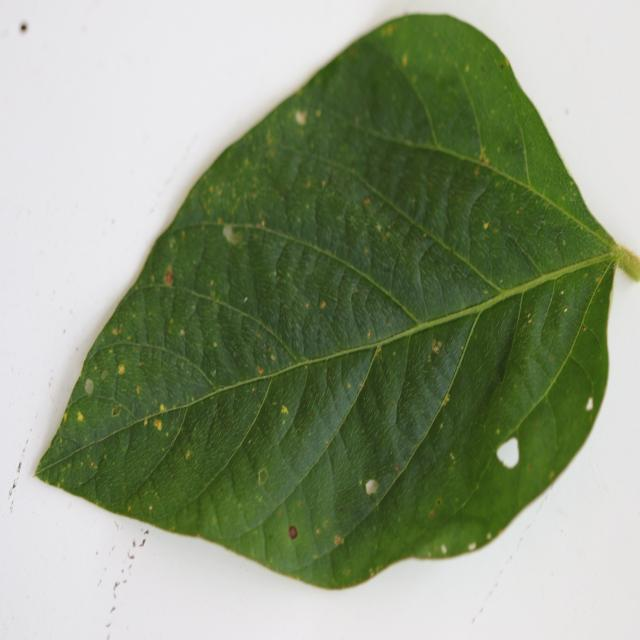Soybean: (29, 13, 640, 594)
downey_mildew: (260, 343, 370, 504), (389, 300, 488, 467), (335, 120, 500, 210), (112, 270, 180, 476), (340, 47, 445, 164), (524, 351, 600, 508), (503, 205, 617, 300), (217, 214, 277, 389), (440, 285, 530, 396), (164, 240, 217, 392), (511, 131, 589, 227), (385, 193, 445, 314), (536, 266, 602, 373), (284, 267, 361, 358), (227, 431, 291, 524), (378, 294, 505, 339), (407, 511, 492, 564), (209, 468, 257, 543), (472, 557, 523, 625), (170, 219, 295, 240), (497, 232, 542, 286), (61, 434, 102, 489), (198, 492, 220, 540), (110, 401, 133, 419)
